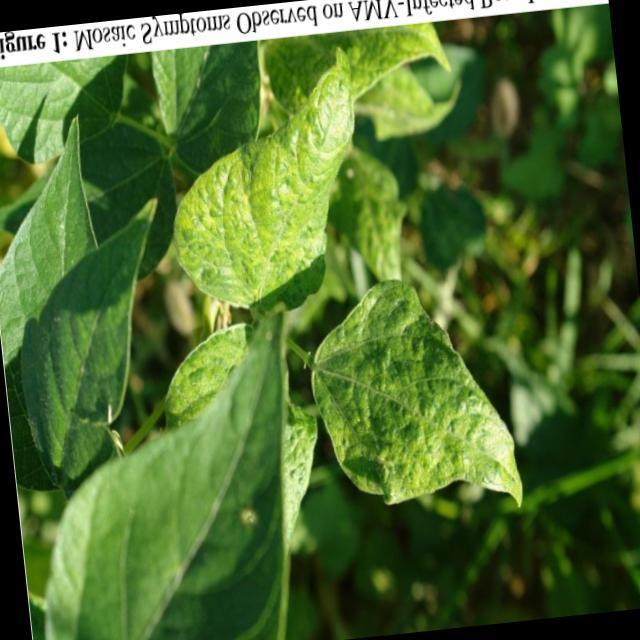Mosaic Virus: (152, 59, 384, 326), (308, 268, 530, 533)
